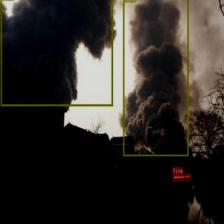fire: (172, 173, 191, 181)
smoke: (0, 0, 112, 106), (123, 0, 189, 156)
